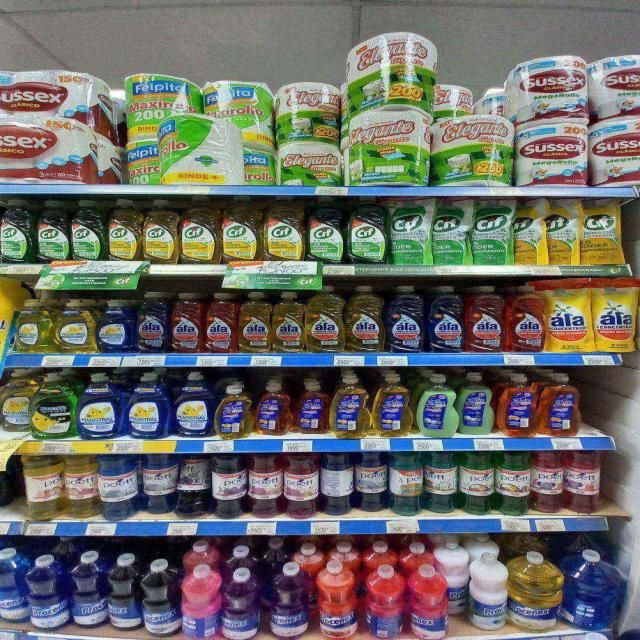ala_conc_amarillo: (345, 285, 384, 353), (305, 285, 343, 353), (272, 290, 304, 353), (238, 291, 270, 353)
ala_conc_azul: (426, 285, 464, 353), (386, 285, 424, 353), (136, 292, 168, 354)
ala_conc_rojo: (465, 285, 505, 353), (507, 284, 544, 353), (170, 292, 203, 354), (205, 292, 238, 353)
ala_sachet_amarillo: (546, 280, 592, 353), (594, 280, 636, 353)
cif_conc_bot_amarilla: (263, 194, 305, 262), (221, 194, 261, 263), (180, 194, 219, 264), (142, 198, 179, 263), (106, 199, 141, 261)
cif_conc_botella_verde: (346, 195, 387, 265), (307, 195, 344, 263), (0, 197, 34, 263), (70, 198, 104, 261), (36, 198, 69, 262)
cif_conc_sachet_amarillo: (581, 197, 624, 265), (548, 197, 580, 265)
cif_conc_sachet_verde: (470, 197, 512, 264), (390, 197, 430, 266), (432, 196, 469, 265)
magistral_con_amarillo: (55, 299, 96, 353), (14, 298, 53, 353)
magistral_con_azul: (78, 372, 124, 440), (126, 373, 170, 439), (173, 373, 213, 438), (98, 298, 134, 354)
magistral_con_crema: (1, 370, 32, 434)
magistral_con_verde: (33, 373, 76, 440)
zorro: (415, 373, 457, 438), (371, 372, 412, 438), (540, 373, 582, 437), (331, 375, 369, 439), (498, 374, 537, 436), (459, 372, 495, 437), (215, 382, 252, 439), (255, 381, 292, 437), (294, 380, 328, 436)
